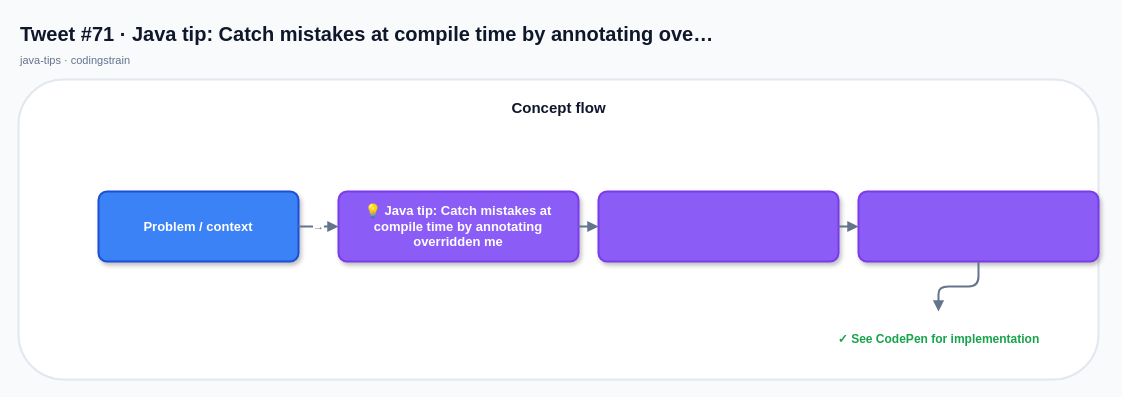
The diagram is 1122 pixels wide and 397 high, and some of its shapes have lost their labels. Here are the shapes that lost their labels. From the top down, the centre of each, then its label:
At point (719, 227): "#Java #Annotations".
At point (979, 227): "Runnable sample: `java-tips`".
